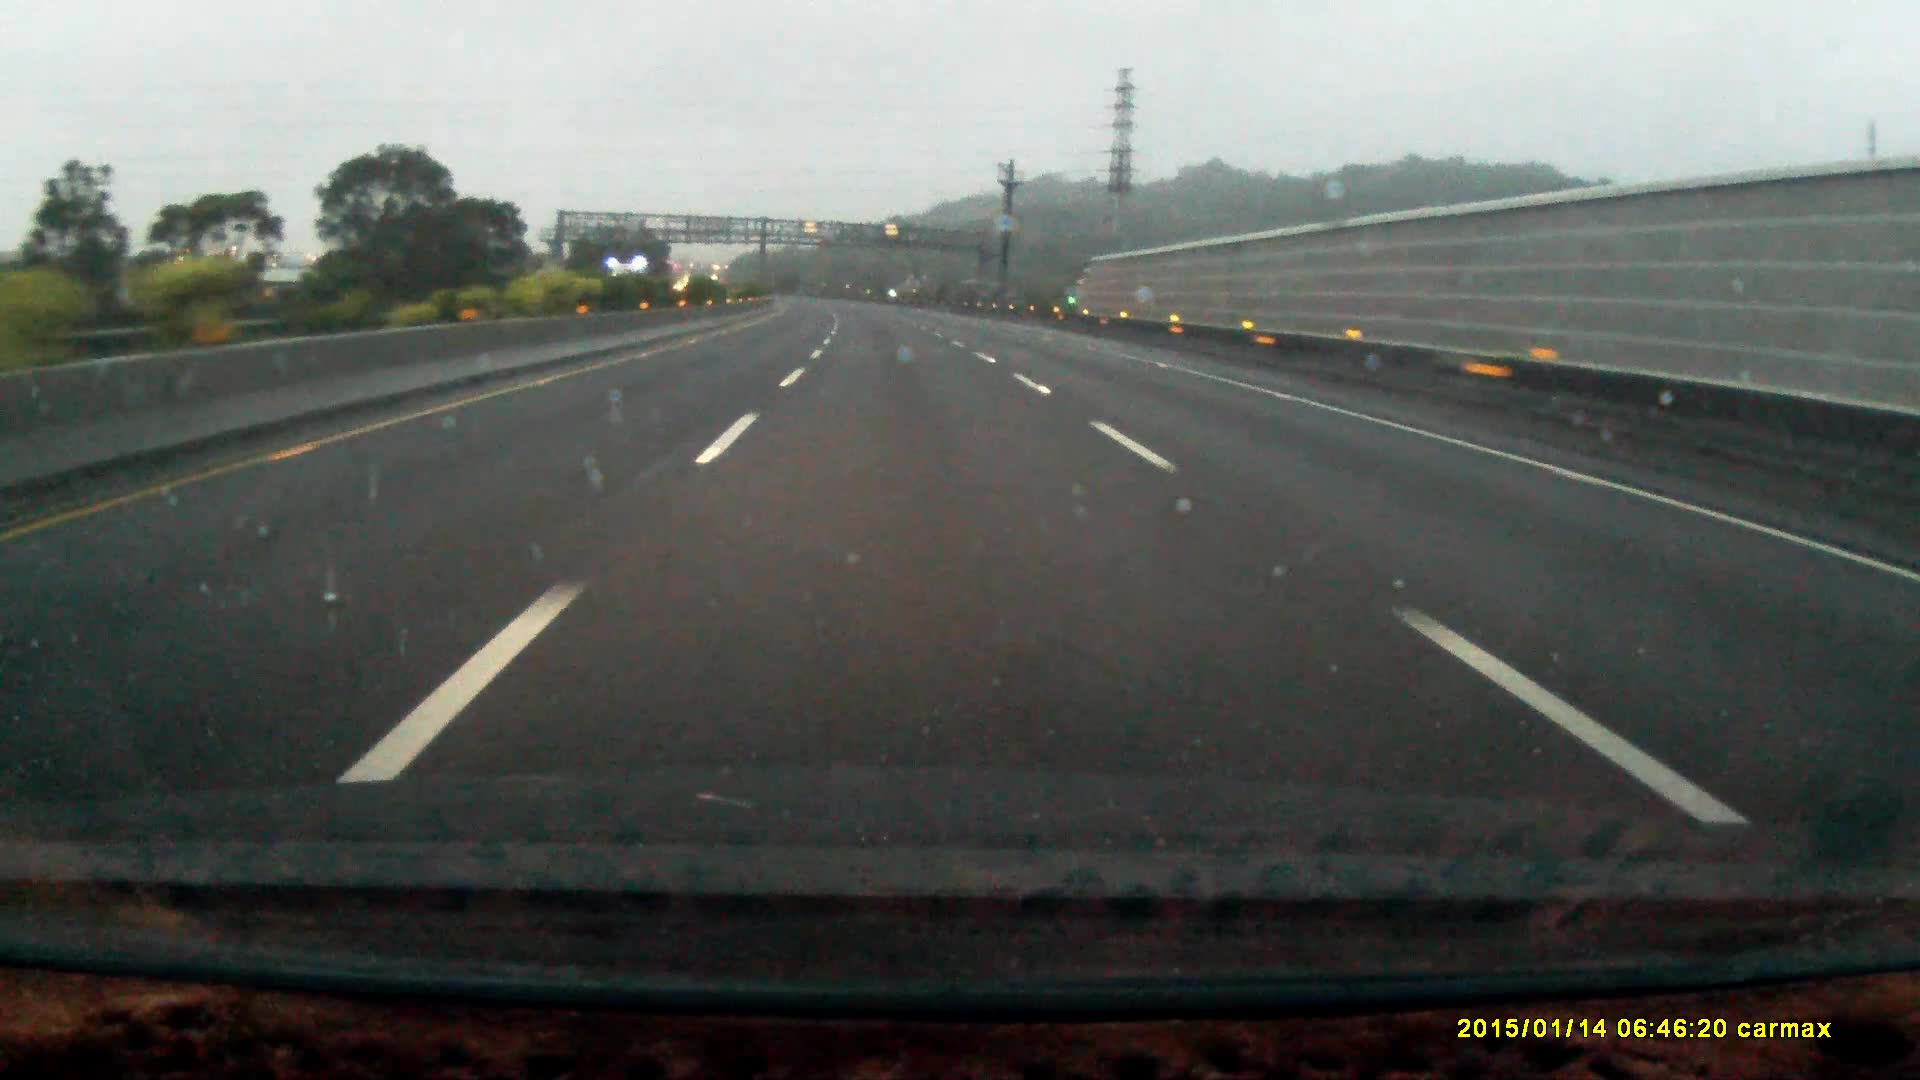vehicle: (608, 260, 651, 311)
